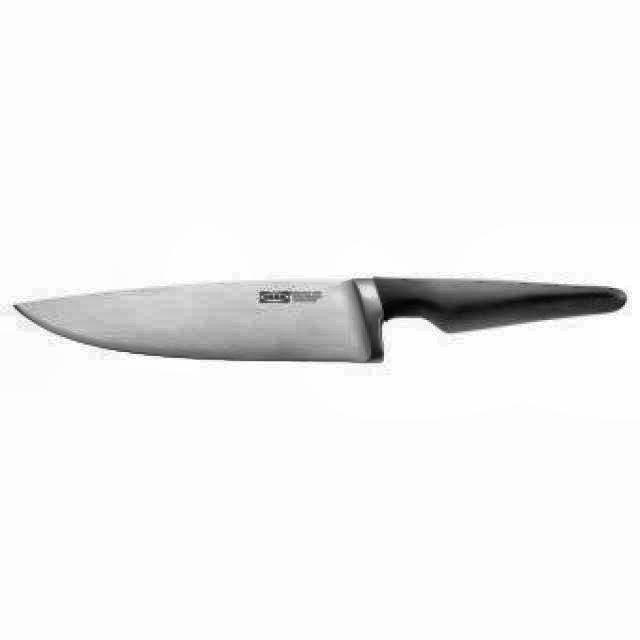knife: (10, 272, 629, 370)
